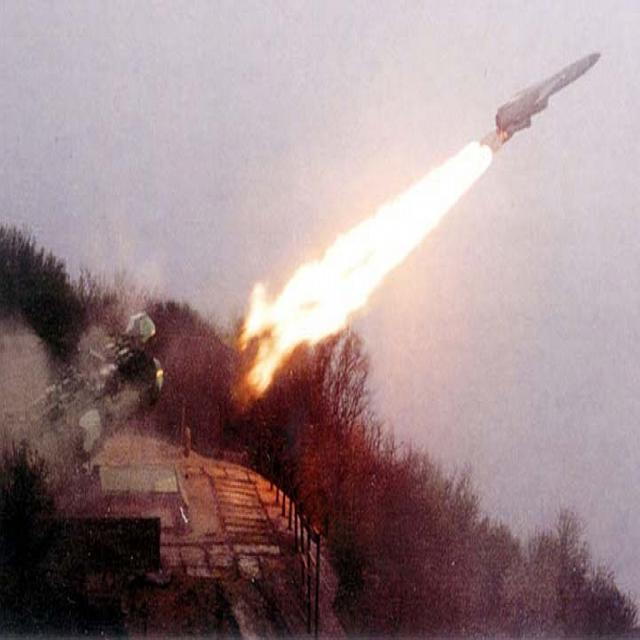Missile: (477, 39, 603, 167)
